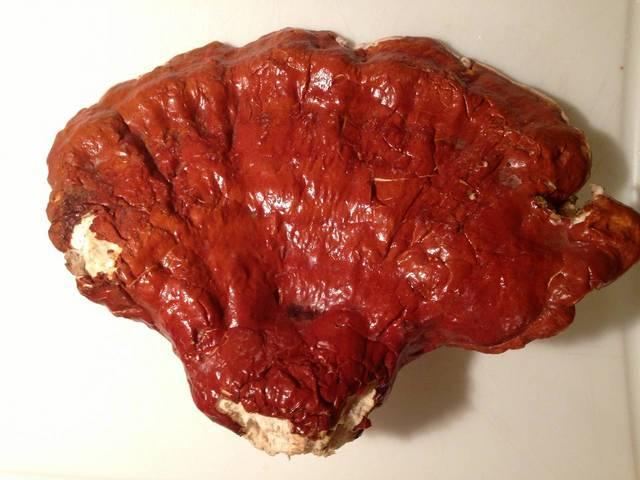poisonous_mushroom: (44, 25, 638, 459)
